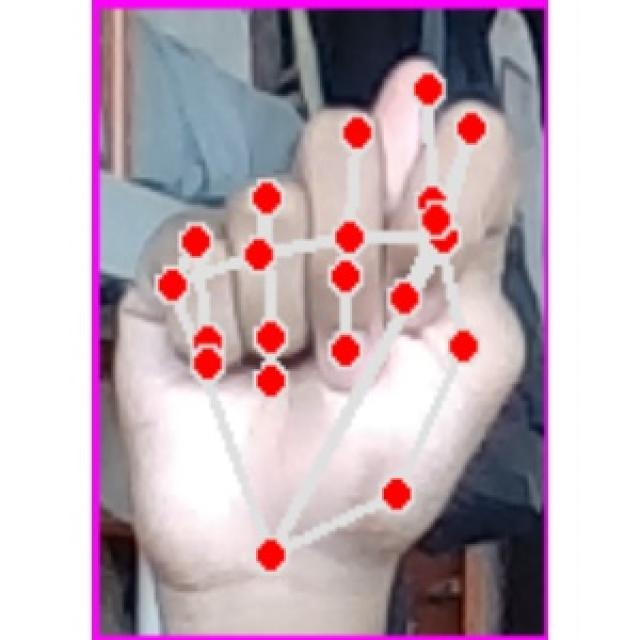T: (108, 60, 520, 588)
